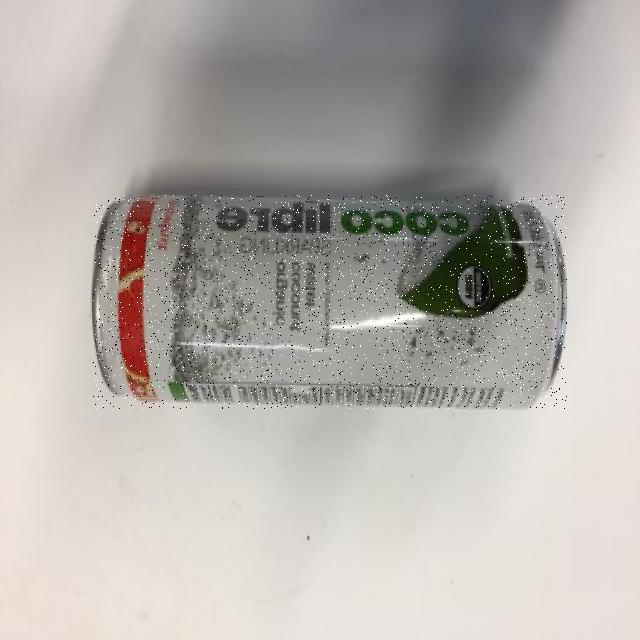metal: (93, 195, 567, 409)
